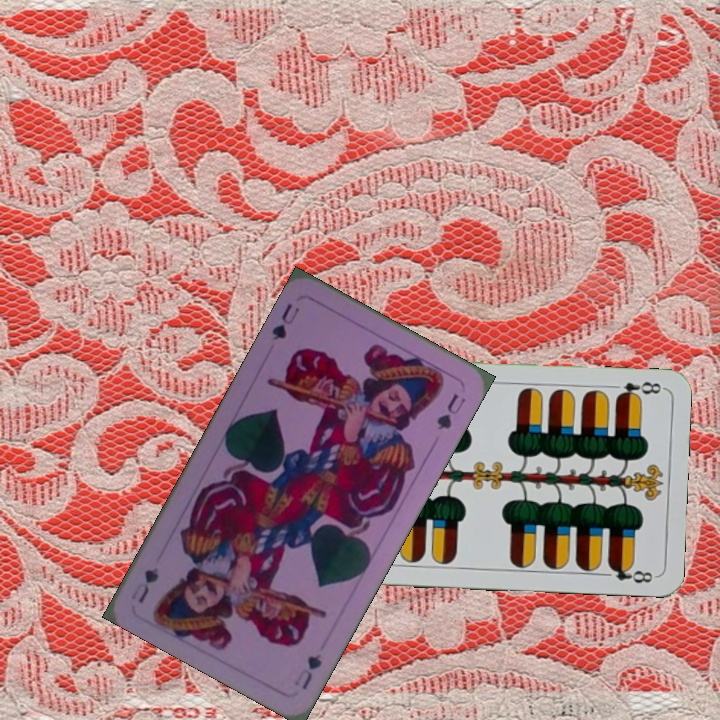E8: (612, 377, 665, 402)
GU: (267, 299, 303, 343), (289, 649, 325, 693)
